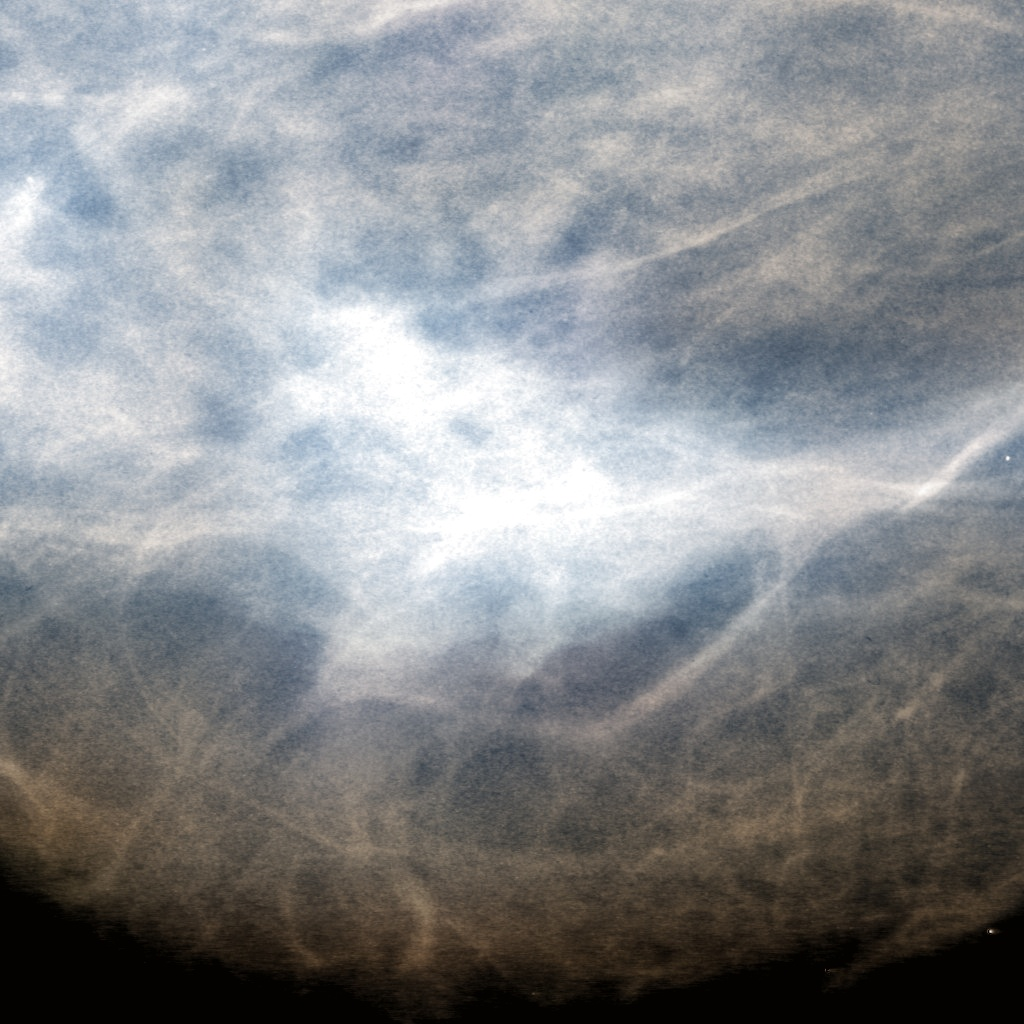tumor: (332, 343, 692, 681)
